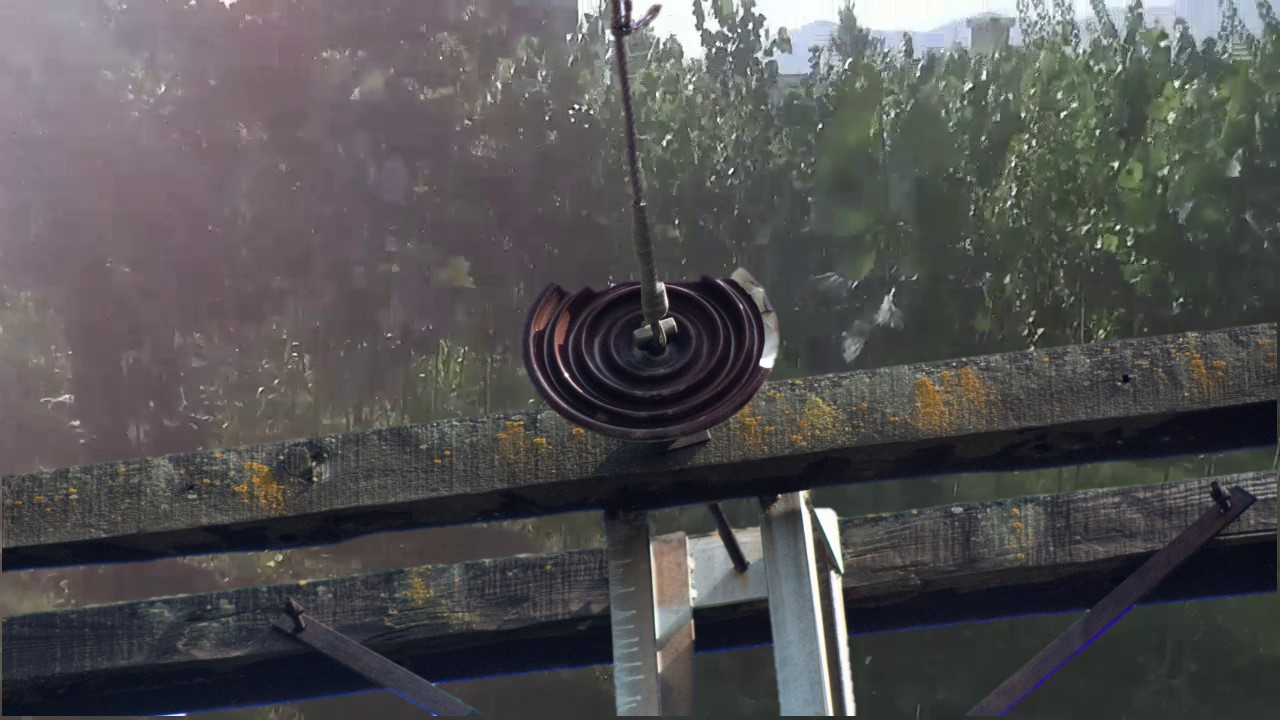defect_disc: (520, 257, 785, 456)
